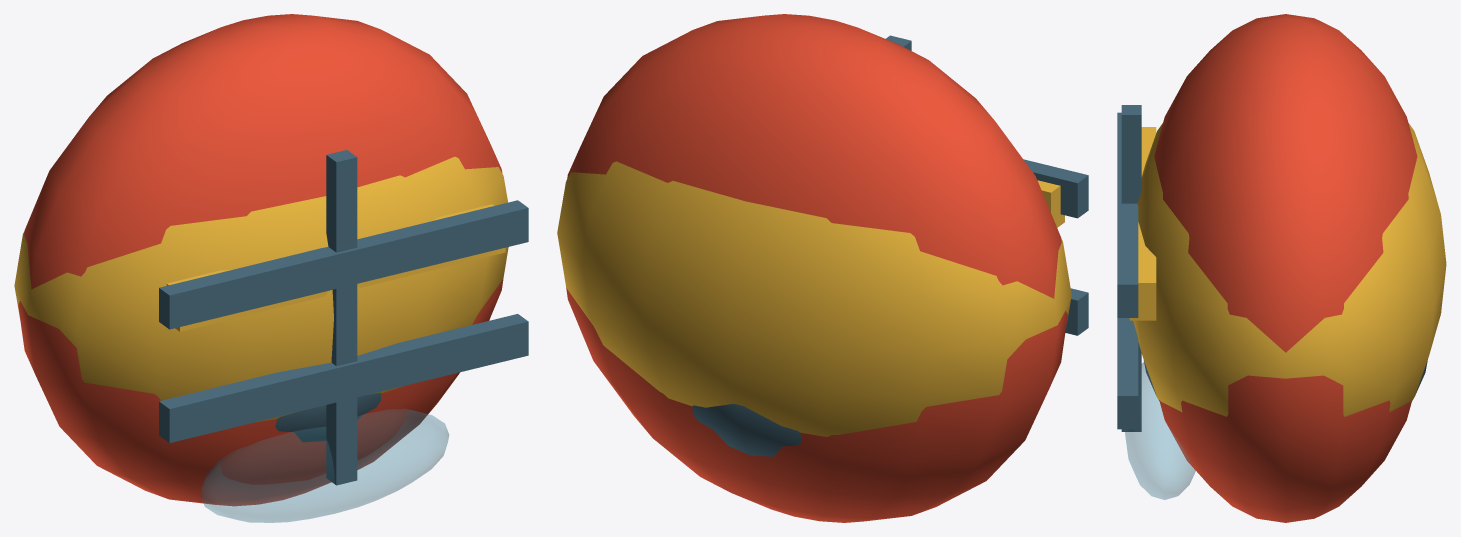
File: sport-outfits.glb
The picture shows the model from 3 angles, left to right: view 1: azimuth 30°, elevation 25°; view 2: azimuth 150°, elevation 25°; view 3: azimuth 270°, elevation 25°; orthographic projection. The views are drawn at different scales.
Parts seen in each view (by area): view 1: Insulated jacket, Flotation vest, Ski goggles, Vest buckle.001, Vest buckle, Jacket zipper, Jacket stripe, Ski helmet shell; view 2: Insulated jacket, Flotation vest, Ski helmet shell, Vest buckle.001, Vest buckle, Jacket stripe; view 3: Insulated jacket, Flotation vest, Ski goggles, Vest buckle.001, Jacket zipper, Vest buckle, Jacket stripe.
Boxes of the visible parts, x1,y1,x2,y2 form: Insulated jacket: (18,14,503,506); Flotation vest: (14,156,508,422); Ski goggles: (201,409,448,522); Vest buckle.001: (159,200,528,329); Vest buckle: (159,314,528,442); Jacket zipper: (326,150,357,485); Jacket stripe: (166,204,505,331); Ski helmet shell: (275,392,381,442); Insulated jacket: (566,14,1067,522); Flotation vest: (557,161,1071,436); Ski helmet shell: (692,404,801,456); Vest buckle.001: (1023,159,1088,218); Vest buckle: (1065,288,1088,335); Jacket stripe: (1037,180,1064,227); Insulated jacket: (1154,14,1417,522); Flotation vest: (1133,123,1446,416); Ski goggles: (1125,362,1195,499); Vest buckle.001: (1117,112,1138,317); Jacket zipper: (1121,105,1141,431); Vest buckle: (1117,318,1138,429); Jacket stripe: (1129,127,1156,320).
Size of the model in its own units: 0.564 by 0.534 by 0.348.
